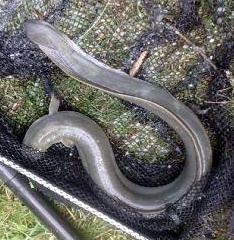Anguilla anguilla: (20, 20, 214, 220)
